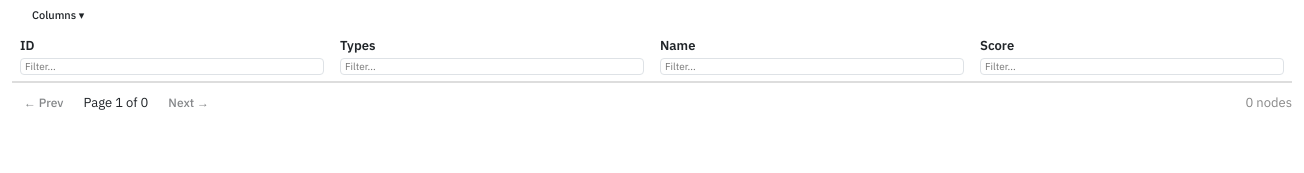
TableView column-visibility menu (bugfix: closeable) › opens and closes via the toggle, a close button, and outside click
Click the button with test id "column-visibility-toggle": (58, 15) [20,4,96,26]
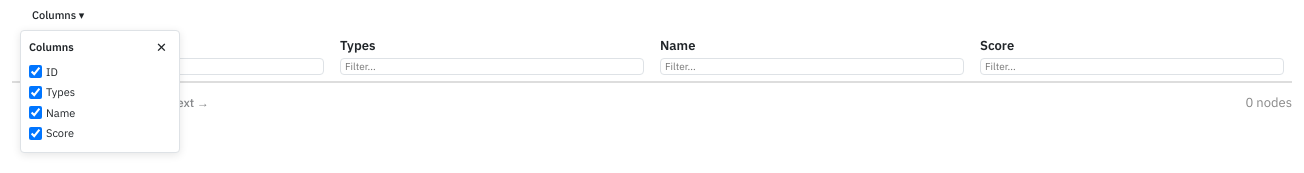
Expected: the element with test id "column-visibility-menu" is shown, [20,30,180,152]
Note: Close via the ✕ button
Click the button with test id "column-visibility-close": (162, 47) [152,41,171,54]
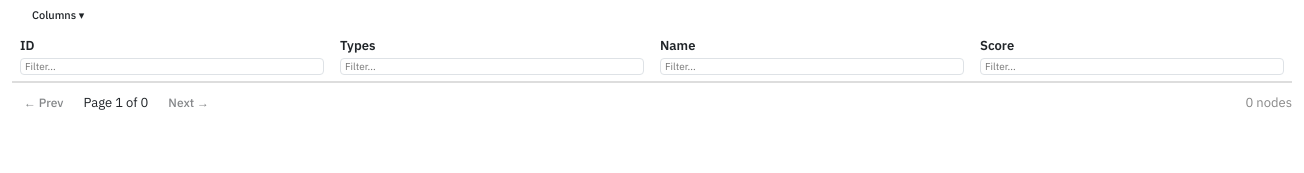
Expected: the element with test id "column-visibility-menu" is gone
Note: Open again, then close via an outside pointerdown
Click the button with test id "column-visibility-toggle": (58, 15) [20,4,96,26]
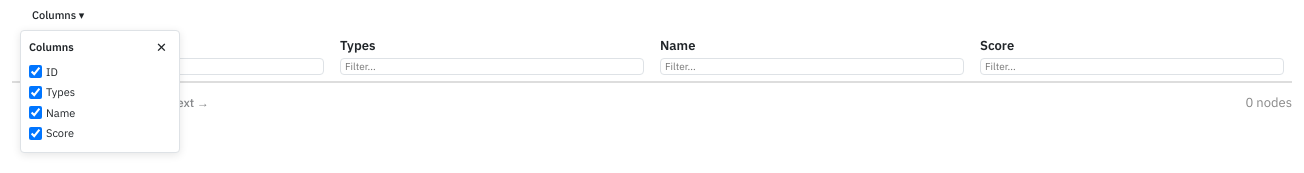
Expected: the element with test id "column-visibility-menu" is shown, [20,30,180,152]
Press the mouse on the element that starts with "Columns ▾": (652, 61) [12,0,1292,122]
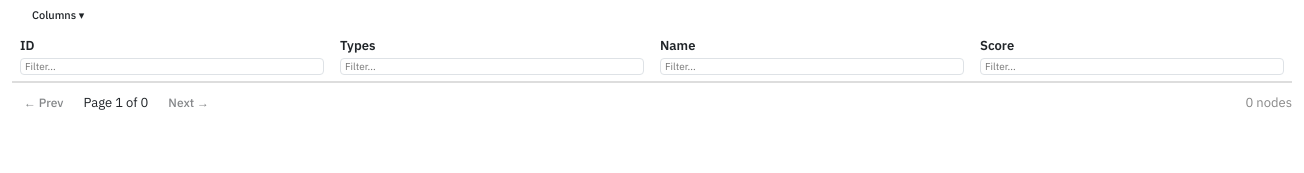
Expected: the element with test id "column-visibility-menu" is gone
Note: Open again, then close via Escape
Click the button with test id "column-visibility-toggle": (58, 15) [20,4,96,26]
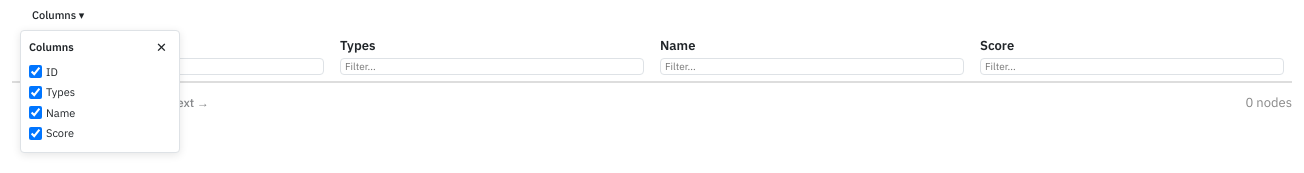
Expected: the element with test id "column-visibility-menu" is shown, [20,30,180,152]
Press Escape
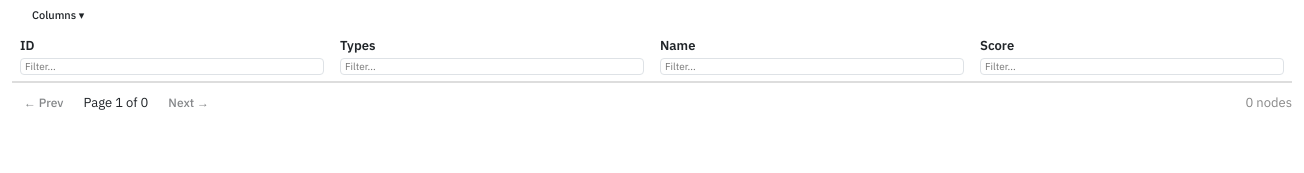
Expected: the element with test id "column-visibility-menu" is gone
